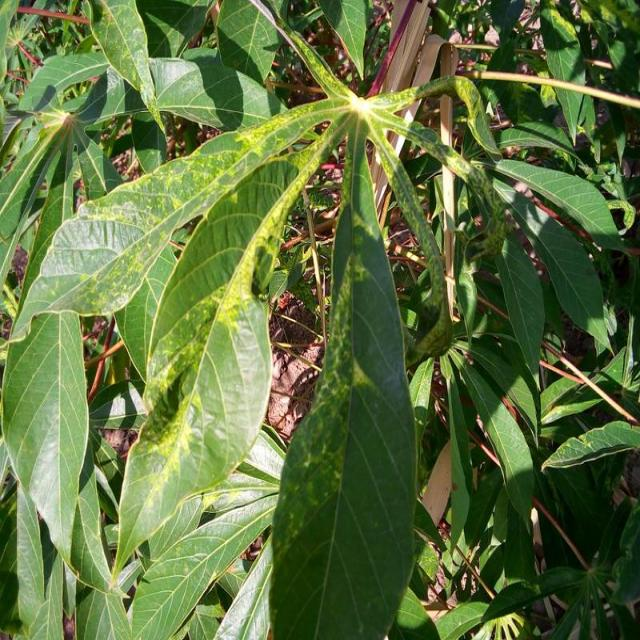cassava leaf: (2, 1, 635, 638), (267, 110, 418, 638)
